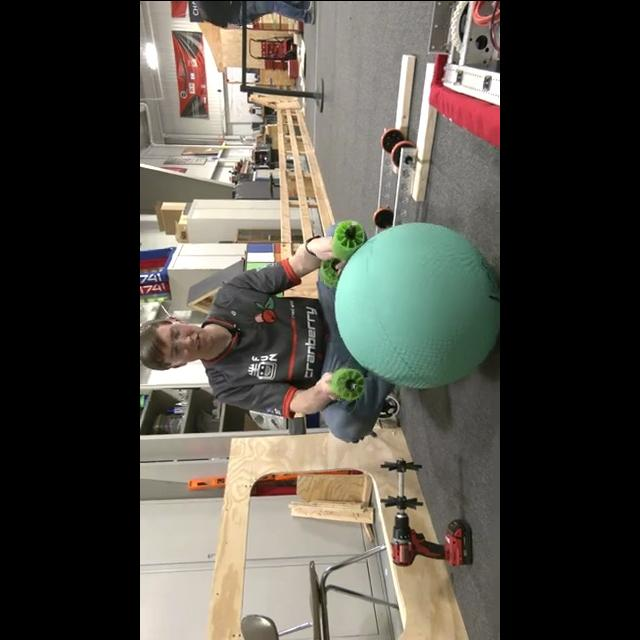ALGAE: (334, 222, 498, 390)
